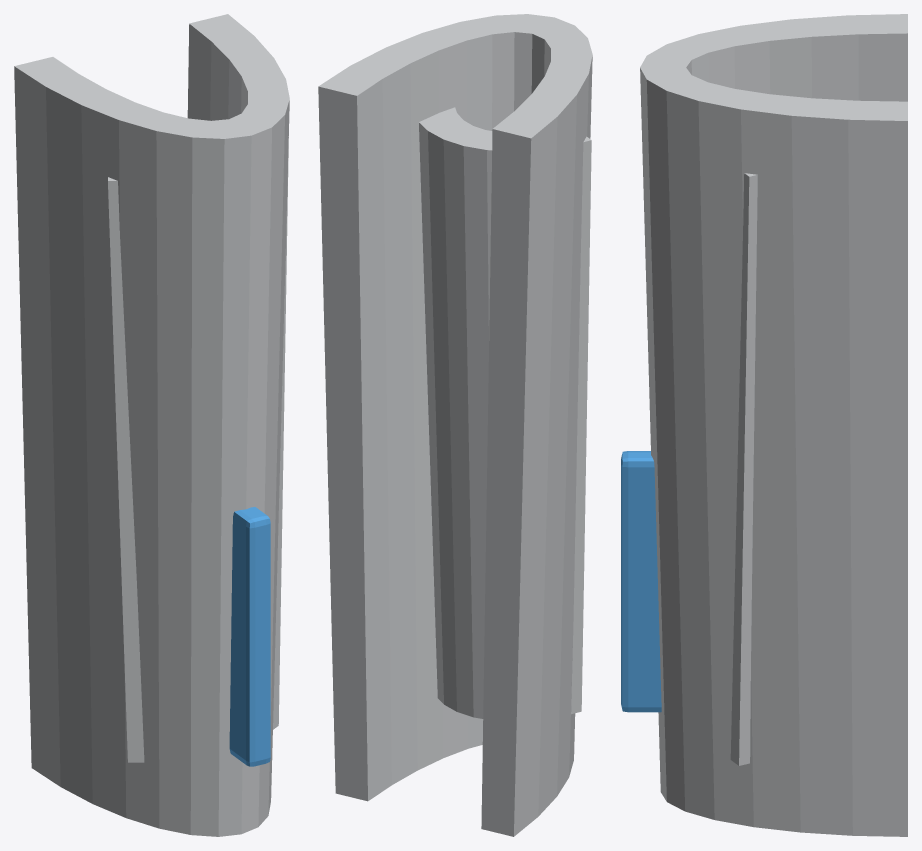
File: left_shin__shin_spike.glb
3 renders of one model, left to right at view 1: azimuth 30°, elevation 25°; view 2: azimuth 150°, elevation 25°; view 3: azimuth 270°, elevation 25°, orthographic. The views are drawn at different scales.
Visible parts, largest first — view 1: armor_armor_left_shin__shin_spike_v001_v001; view 2: armor_armor_left_shin__shin_spike_v001_v001; view 3: armor_armor_left_shin__shin_spike_v001_v001.
Part boxes in pixels (left/top/right/bottom): armor_armor_left_shin__shin_spike_v001_v001: left=14, top=14, right=289, bottom=836; armor_armor_left_shin__shin_spike_v001_v001: left=318, top=14, right=592, bottom=836; armor_armor_left_shin__shin_spike_v001_v001: left=621, top=14, right=907, bottom=836.
Size of the model in its own units: 0.1078 by 0.34 by 0.122.
